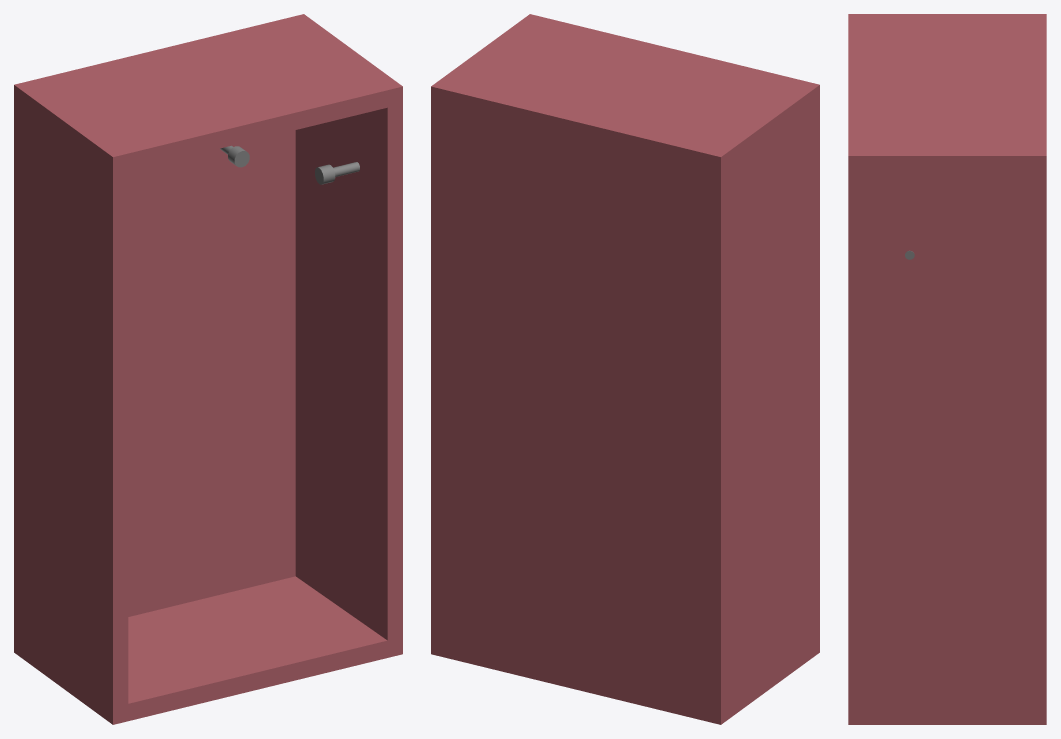
File: LemariMerah.fbx
3 renders of one model, left to right at view 1: azimuth 30°, elevation 25°; view 2: azimuth 150°, elevation 25°; view 3: azimuth 270°, elevation 25°, orthographic.
Visible parts, largest first — view 1: LemariAlatBesar.002; view 2: LemariAlatBesar.002; view 3: LemariAlatBesar.002.
Part boxes in pixels (box(x1,y1,x2,y2)): LemariAlatBesar.002: box(14, 14, 402, 724); LemariAlatBesar.002: box(431, 14, 819, 724); LemariAlatBesar.002: box(848, 14, 1046, 724).
Bounding box in the file's own units: 156 × 291 × 92.03.
